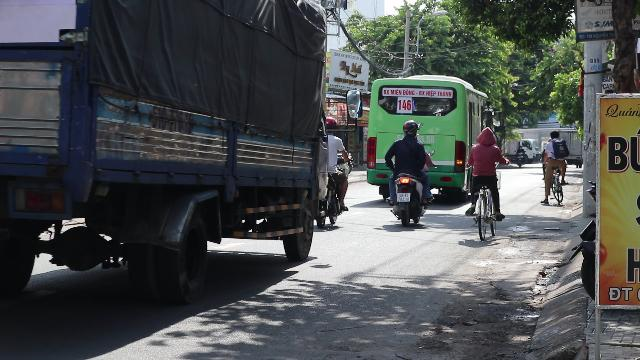helmet: (401, 119, 419, 137)
licenseplate: (398, 193, 410, 202)
motorcyclist: (383, 120, 431, 226)
